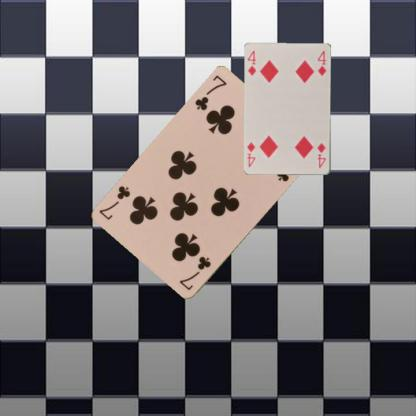4d: (245, 48, 258, 77), (315, 140, 327, 170)
7c: (192, 73, 228, 112), (176, 254, 213, 291)
